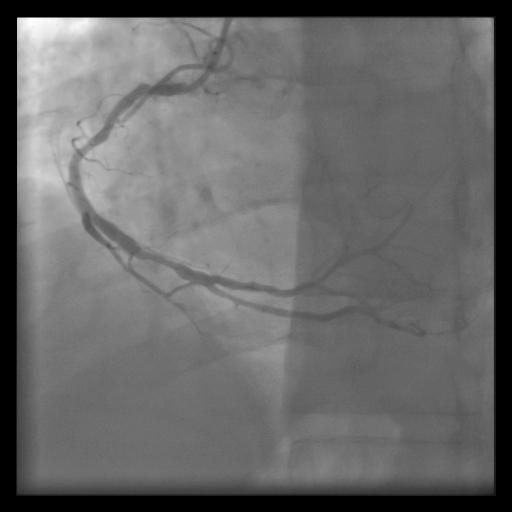Stenosis: (141, 240, 181, 280)
